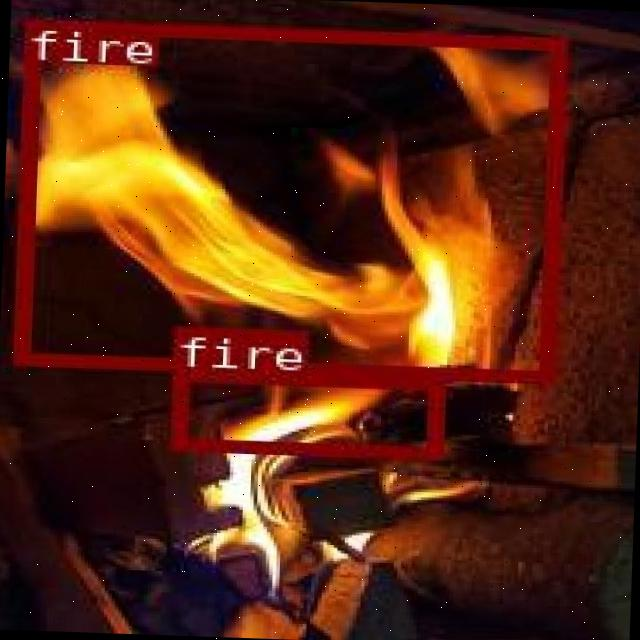fire: (11, 18, 564, 382), (168, 366, 444, 456)
